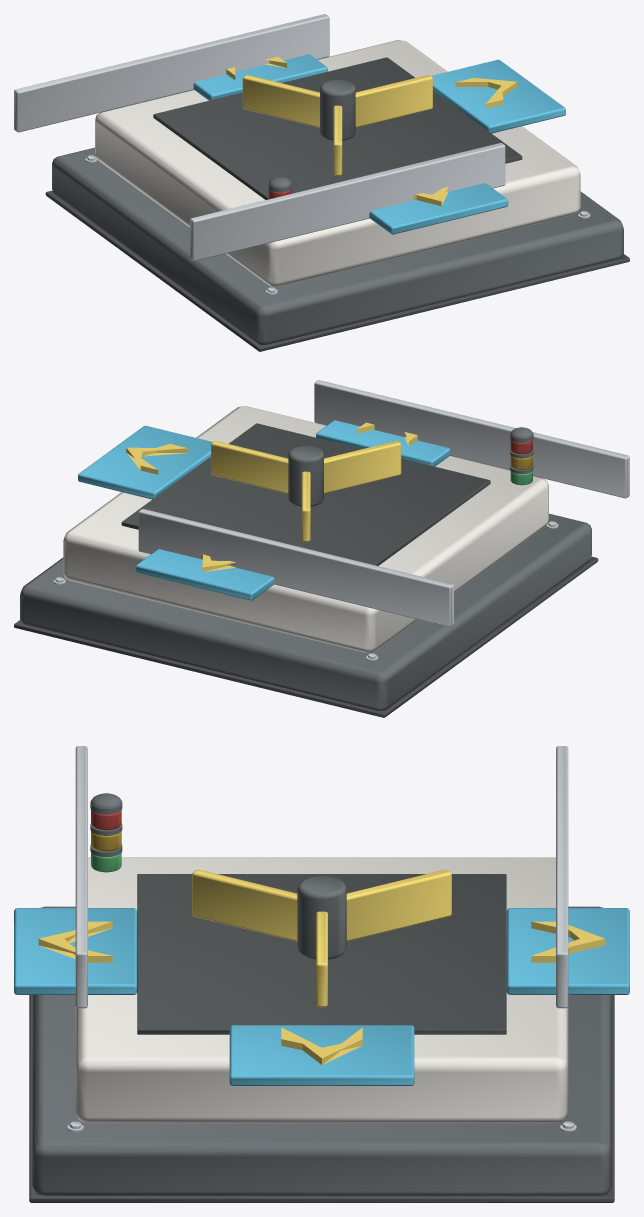
Rendered from divisor.glb.
3 renders of one model, top to bottom at view 1: azimuth 30°, elevation 25°; view 2: azimuth 150°, elevation 25°; view 3: azimuth 270°, elevation 25°, orthographic. The views are drawn at different scales.
Visible parts, largest first — view 1: zocalo, tolva, banda, guarda1, guarda-1, rampa0, zocalo_goma, rampa1, paleta0, paleta1, rampa2, paleta_eje (+2 smaller); view 2: zocalo, tolva, banda, guarda1, guarda-1, rampa0, zocalo_goma, rampa2, paleta0, paleta2, rampa1, paleta_eje (+2 smaller); view 3: zocalo, tolva, banda, rampa0, rampa1, rampa2, zocalo_goma, paleta1, paleta2, guarda-1, guarda1, paleta_eje (+4 smaller).
Part boxes in pixels (left/top/right/bottom): zocalo: left=52, top=147, right=623, bottom=344; tolva: left=95, top=40, right=580, bottom=286; banda: left=153, top=57, right=522, bottom=199; guarda1: left=14, top=14, right=329, bottom=132; guarda-1: left=190, top=143, right=505, bottom=261; rampa0: left=431, top=59, right=565, bottom=133; zocalo_goma: left=45, top=190, right=629, bottom=351; rampa1: left=369, top=183, right=508, bottom=234; paleta0: left=355, top=75, right=432, bottom=127; paleta1: left=242, top=75, right=319, bottom=127; rampa2: left=193, top=54, right=327, bottom=100; paleta_eje: left=320, top=79, right=355, bottom=140; zocalo: left=20, top=513, right=591, bottom=710; tolva: left=63, top=406, right=548, bottom=652; banda: left=121, top=423, right=490, bottom=565; guarda1: left=138, top=509, right=453, bottom=627; guarda-1: left=314, top=380, right=629, bottom=498; rampa0: left=78, top=425, right=212, bottom=499; zocalo_goma: left=14, top=556, right=598, bottom=717; rampa2: left=135, top=549, right=274, bottom=600; paleta0: left=211, top=441, right=288, bottom=493; paleta2: left=324, top=441, right=401, bottom=493; rampa1: left=316, top=420, right=450, bottom=466; paleta_eje: left=288, top=445, right=323, bottom=506; zocalo: left=32, top=906, right=611, bottom=1195; tolva: left=75, top=857, right=568, bottom=1123; banda: left=137, top=874, right=506, bottom=1034; rampa0: left=229, top=1025, right=414, bottom=1085; rampa1: left=14, top=908, right=137, bottom=994; rampa2: left=506, top=908, right=629, bottom=994; zocalo_goma: left=29, top=995, right=614, bottom=1202; paleta1: left=346, top=869, right=451, bottom=941; paleta2: left=192, top=869, right=297, bottom=941; guarda-1: left=75, top=746, right=87, bottom=1008; guarda1: left=556, top=746, right=568, bottom=1008; paleta_eje: left=297, top=876, right=346, bottom=959.
Size of the model in its own units: 1.1 by 0.35 by 1.
